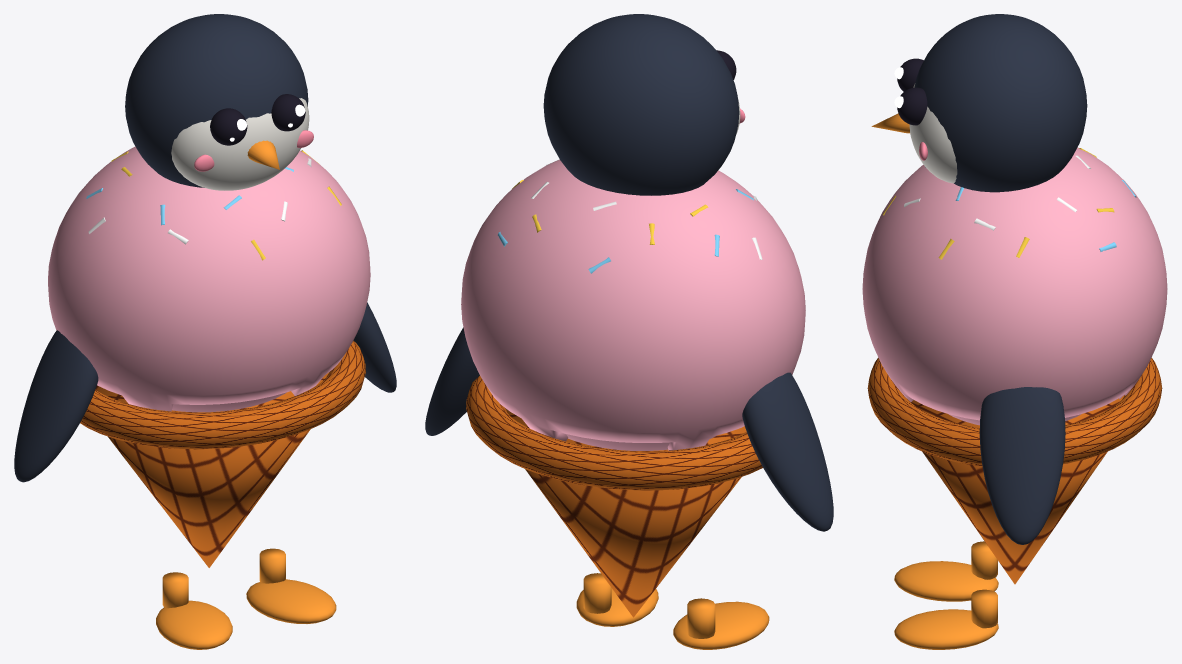
Rendered from pilot_pingvin_is.glb.
3 renders of one model, left to right at view 1: azimuth 30°, elevation 25°; view 2: azimuth 150°, elevation 25°; view 3: azimuth 270°, elevation 25°, orthographic. The views are drawn at different scales.
Parts seen in each view (by area): view 1: kropp, hode, vinge_v, bein_hf, bein_vf, vinge_h; view 2: kropp, hode, vinge_v, bein_vf, vinge_h, bein_hf; view 3: kropp, hode, vinge_h, bein_hf, bein_vf.
Boxes of the visible parts, x1,y1,x2,y2 form: kropp: (48, 146, 370, 567); hode: (125, 14, 313, 190); vinge_v: (14, 330, 98, 482); bein_hf: (246, 548, 336, 623); bein_vf: (156, 572, 232, 649); vinge_h: (353, 302, 396, 392); kropp: (461, 159, 805, 617); hode: (543, 14, 745, 195); vinge_v: (742, 372, 833, 531); bein_vf: (673, 598, 769, 649); vinge_h: (425, 327, 479, 435); bein_hf: (576, 573, 658, 626); kropp: (862, 147, 1167, 584); hode: (871, 14, 1087, 192); vinge_h: (979, 387, 1065, 544); bein_hf: (894, 589, 998, 649); bein_vf: (894, 541, 998, 601).
Size of the model in its own units: 1.16 by 1.72 by 0.8017.
Materials: 12 (1 with a texture image).
